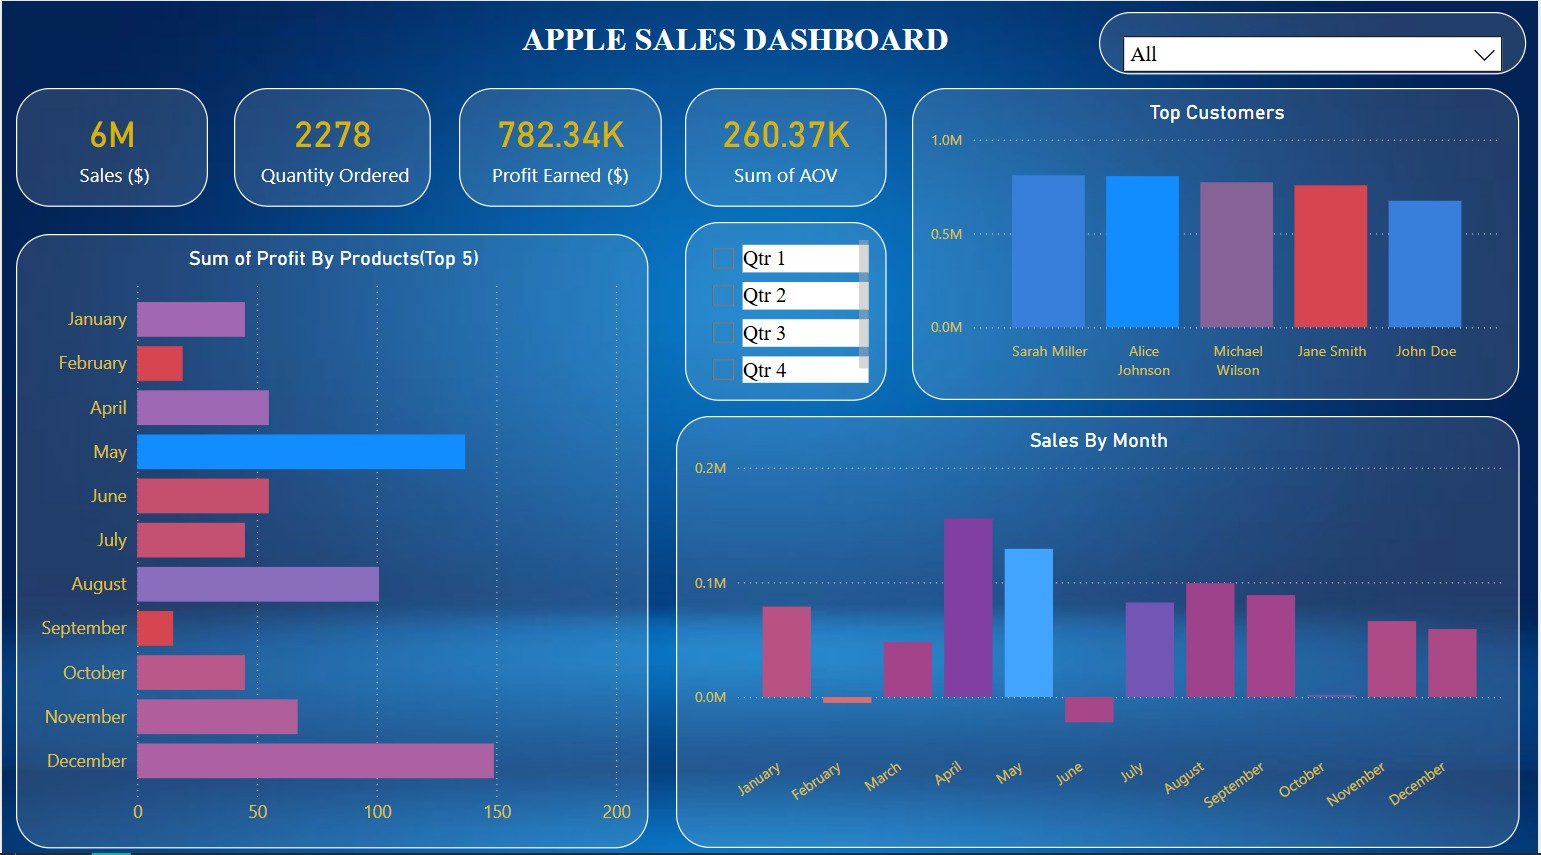

What the dashboard file says about the page in this screenshot:
{"tool":"powerbi","page":{"name":"Page 1","canvas":[1280,720],"ordinal":0},"visuals":[{"type":"textbox","box":[315.1,0,591.6,60.1],"z":0},{"type":"columnChart","title":"Sales By Month","fields":{"Category":["Sheet1.Order Date.Variation.Date Hierarchy.Month"],"Y":["Sheet1 (2).Profit Earned ($)"]},"box":[562,345.6,702.9,360],"z":1000},{"type":"barChart","title":"Sum of Profit By Products(Top 5)","fields":{"Category":["Sheet1 (2).Product","Sheet1.Order Date.Variation.Date Hierarchy.Month"],"Y":["Sheet1 (2).Quantity Ordered"]},"box":[11.7,193.9,527,511.7],"z":2000},{"type":"card","fields":{"Values":["Sheet1 (2).Sales ($)"]},"box":[11.7,72.7,159.8,98.8],"z":5000},{"type":"card","fields":{"Values":["Sheet1 (2).Quantity Ordered"]},"box":[193,72.7,164.3,98.8],"z":6000},{"type":"card","fields":{"Values":["Sheet1 (2).Profit Earned ($)"]},"box":[380.6,72.7,168.8,98.8],"z":7000},{"type":"card","fields":{"Values":["Sheet1 (2).AOV"]},"box":[569.2,72.7,167.9,98.8],"z":8000},{"type":"clusteredColumnChart","title":"Top Customers","fields":{"Category":["Sheet1.Customer Name"],"Y":["Sheet1 (2).Sales ($)"]},"box":[758.6,72.7,506.3,260.3],"z":10000},{"type":"slicer","fields":{"Values":["Sheet1.City"]},"box":[913.9,0,356.4,61],"z":11000},{"type":"slicer","fields":{"Values":["Sheet1.Order Date.Variation.Date Hierarchy.Quarter"]},"box":[569.2,184,167.9,149],"z":12000}]}

Visuals, with their boxes in screenshot pixels (x1, y1, x2, y2), scaled from the page's 1280x720 canvas onto the 1541x855 screenshot:
textbox: 379, 0, 1092, 71
"Sales By Month" columnChart: 677, 410, 1523, 838
"Sum of Profit By Products(Top 5)" barChart: 14, 230, 649, 838
card - Sheet1 (2).Sales ($): 14, 86, 206, 204
card - Sheet1 (2).Quantity Ordered: 232, 86, 430, 204
card - Sheet1 (2).Profit Earned ($): 458, 86, 661, 204
card - Sheet1 (2).AOV: 685, 86, 887, 204
"Top Customers" clusteredColumnChart: 913, 86, 1523, 395
slicer - Sheet1.City: 1100, 0, 1529, 72
slicer - Sheet1.Order Date.Variation.Date Hierarchy.Quarter: 685, 218, 887, 395
